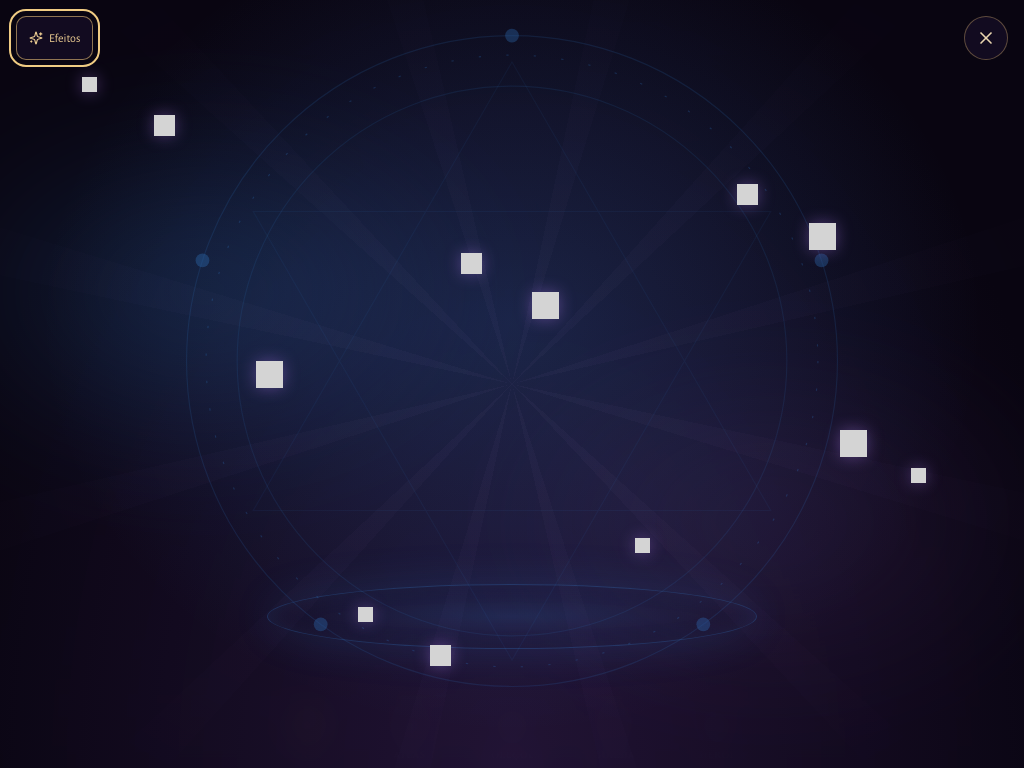
Scenario: Acervo e ficha do herói › mostra a origem real da carta e permite fechar o visor
Earlier steps of the test are not shown.
(page scrolled)
Click the button named "Fechar": click(986, 38) 964,16 -> 1008,60
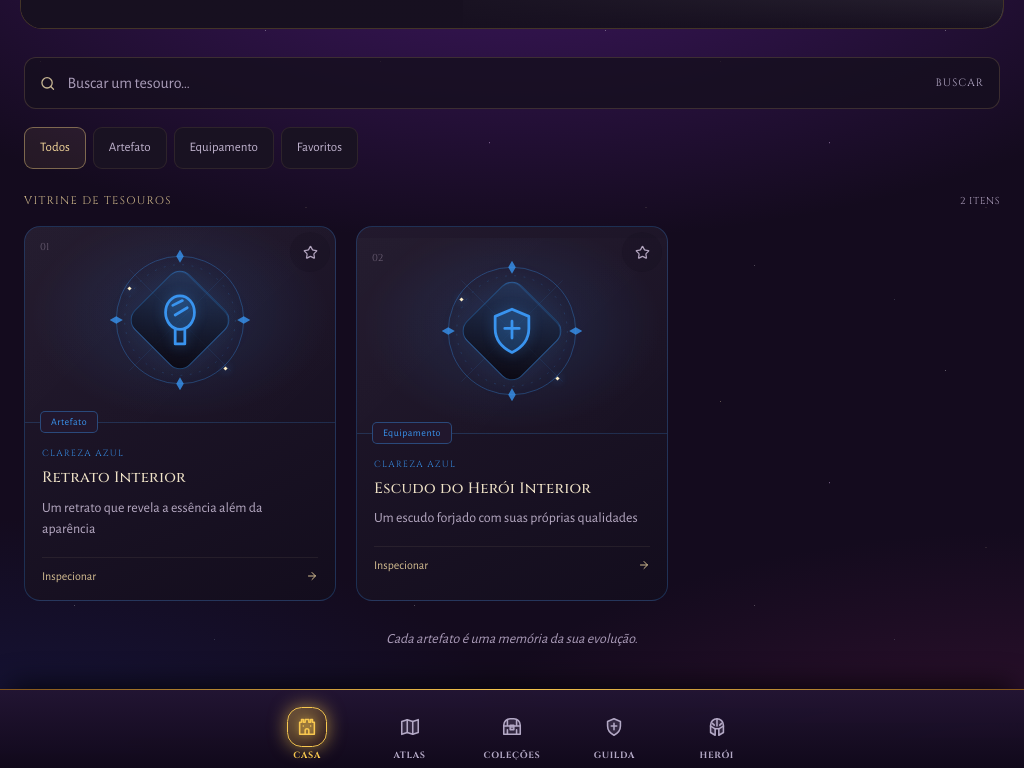
Expected: the dialog is gone
